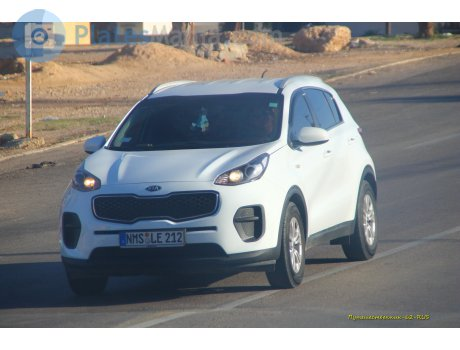License Plates: (117, 224, 187, 242)
